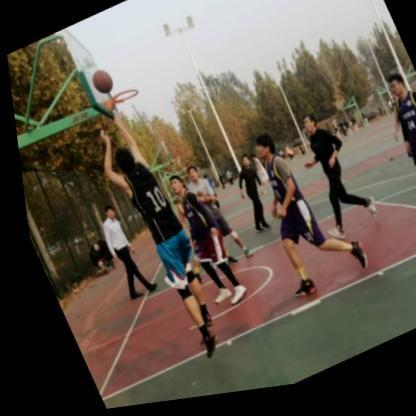basketball: (85, 67, 114, 100)
